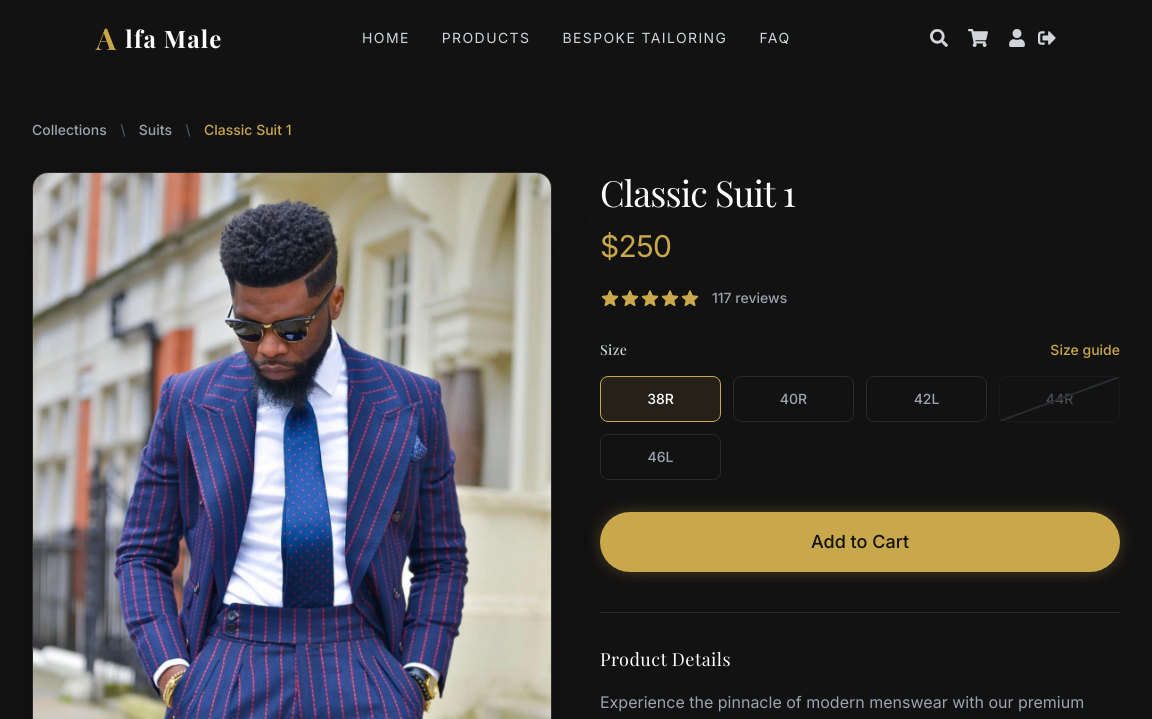
Test case: customer shopping journey › keeps different selected sizes as separate cart items through the drawer
Check: the heading "Classic Suit 1" is shown, box [600,168,795,216]
What coordinates should you click on to do the following:
click the button "Add to Cart"
I would click on:
 (860, 542)
Its box is [600,512,1120,572].
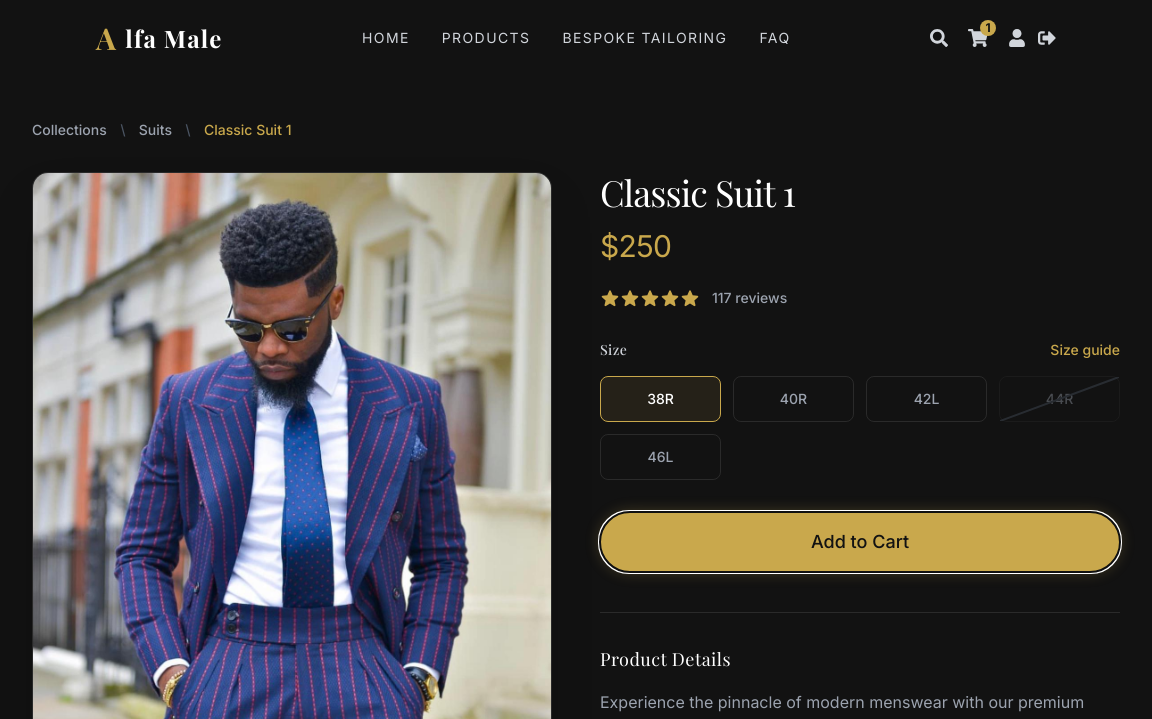
What coordinates should you click on to do the following:
click the text "40R"
I would click on:
 (793, 399)
Its box is [780,389,807,409].
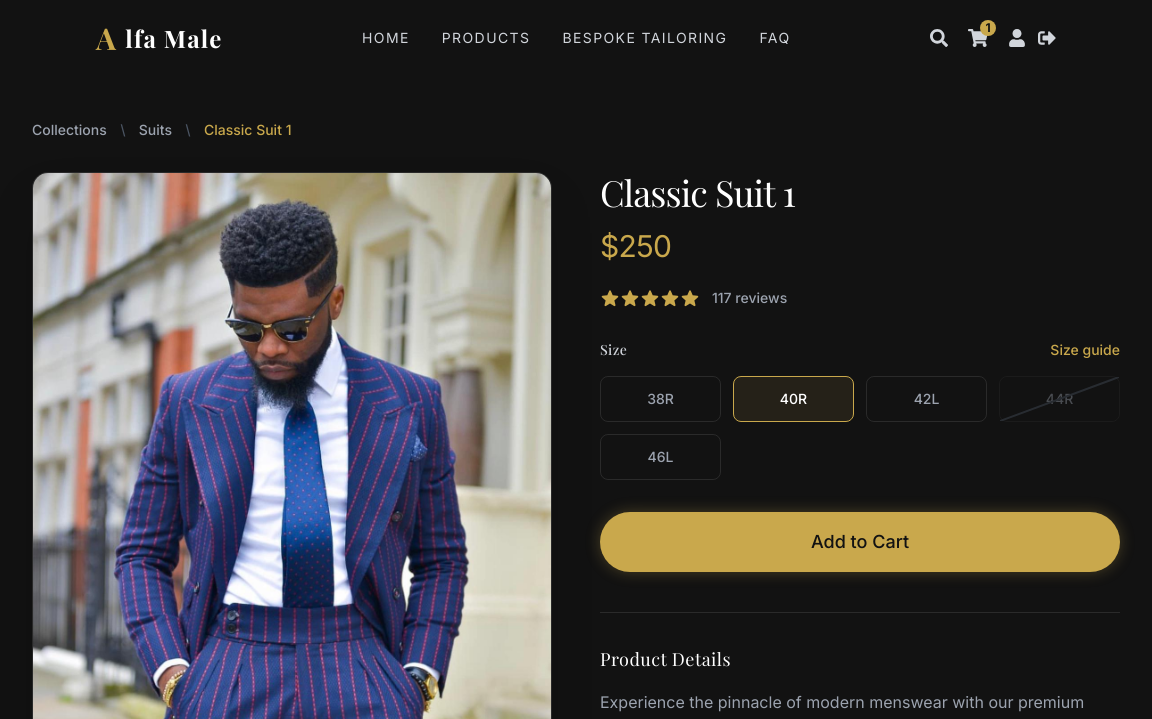
What coordinates should you click on to do the following:
click the button "Add to Cart"
I would click on:
 (860, 542)
Its box is [600,512,1120,572].
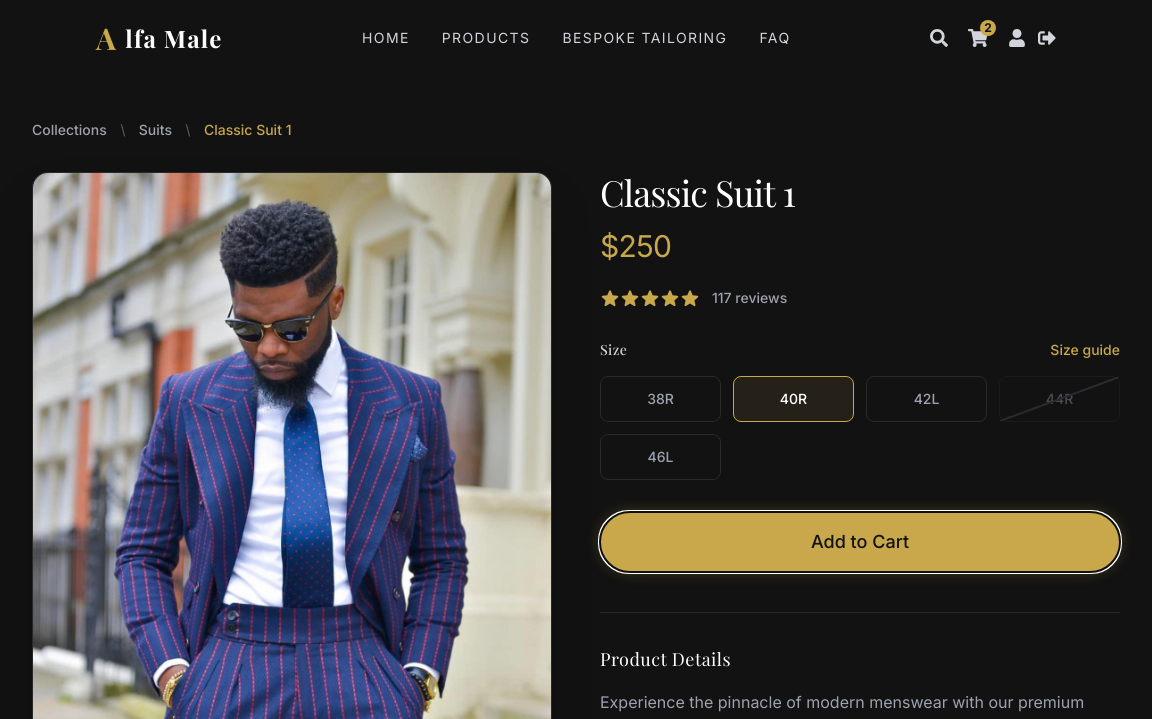
What coordinates should you click on to do the following:
click the button named "open cart"
I would click on:
 (978, 38)
Its box is [968,28,988,48].
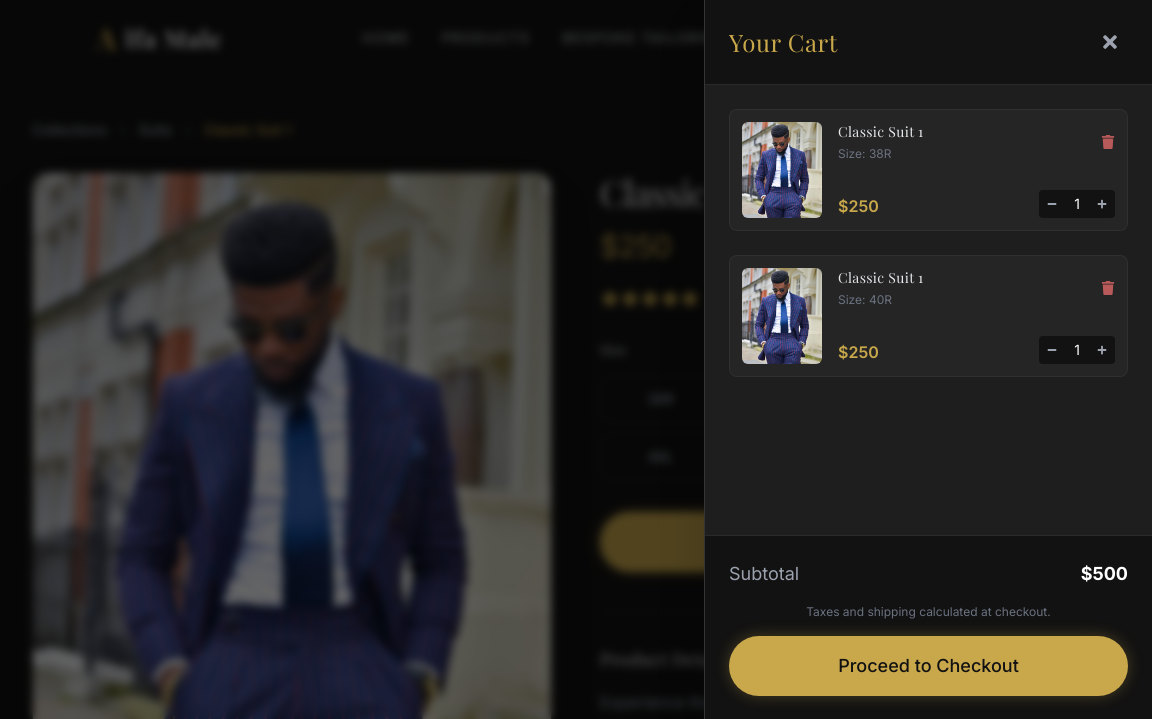
Check: the heading "Your Cart" is shown, box [729,26,838,58]
Check: the text "Size: 38R" is shown, box [838,146,892,161]
Check: the text "Size: 40R" is shown, box [838,292,892,307]
